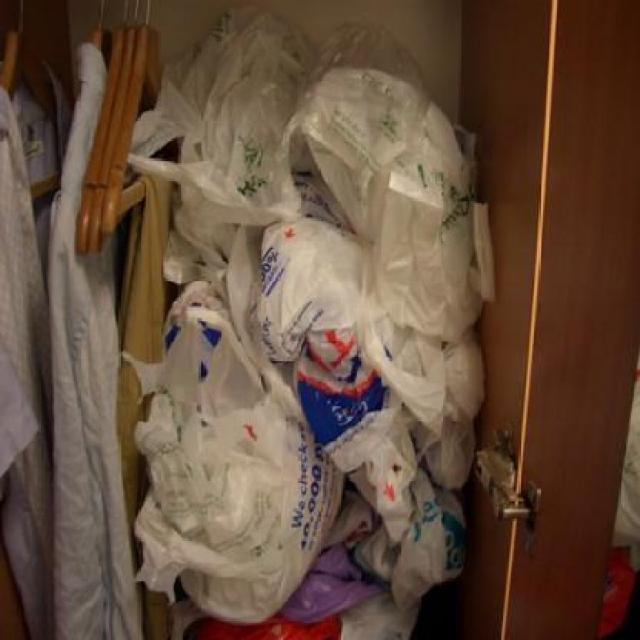plastic bag: (118, 1, 500, 638)
